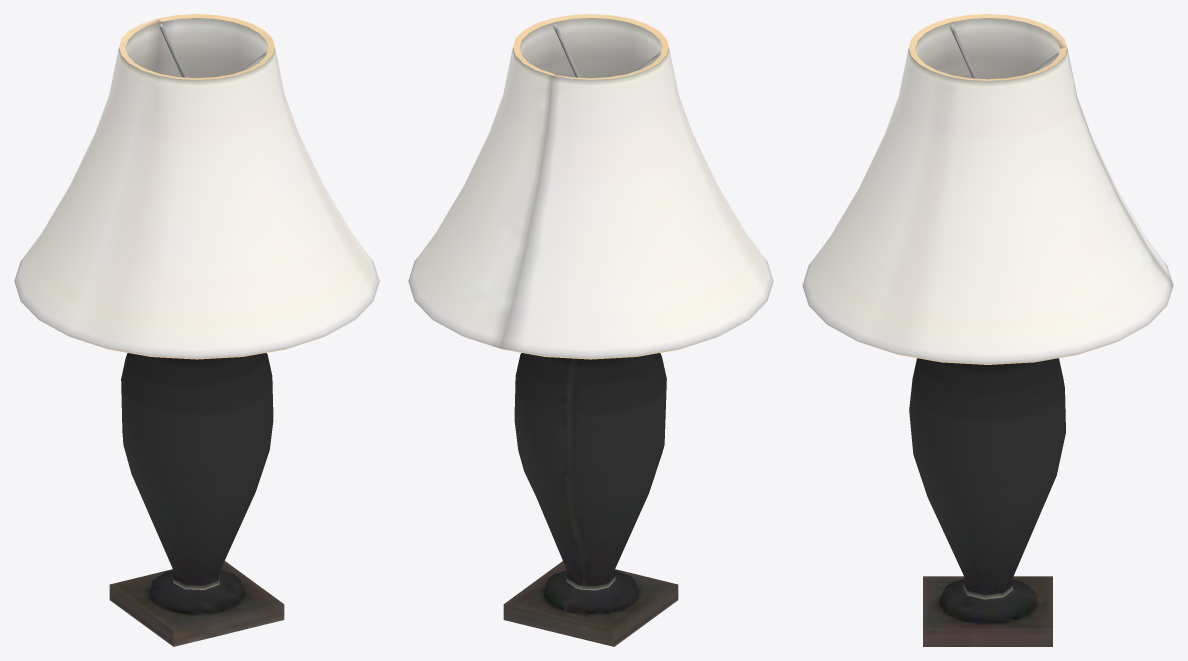
File: table-lamp.gltf
The picture shows the model from 3 angles, left to right: view 1: azimuth 30°, elevation 25°; view 2: azimuth 150°, elevation 25°; view 3: azimuth 270°, elevation 25°; orthographic projection.
Parts seen in each view (by area): view 1: prop; view 2: prop; view 3: prop.
Part boxes in pixels (x1,y1,x2,y2): prop: [14, 14, 379, 646]; prop: [408, 14, 773, 646]; prop: [802, 14, 1173, 646].
Size of the model in its own units: 0.2745 by 0.4669 by 0.2745.
Materials: 1 (1 with a texture image).
